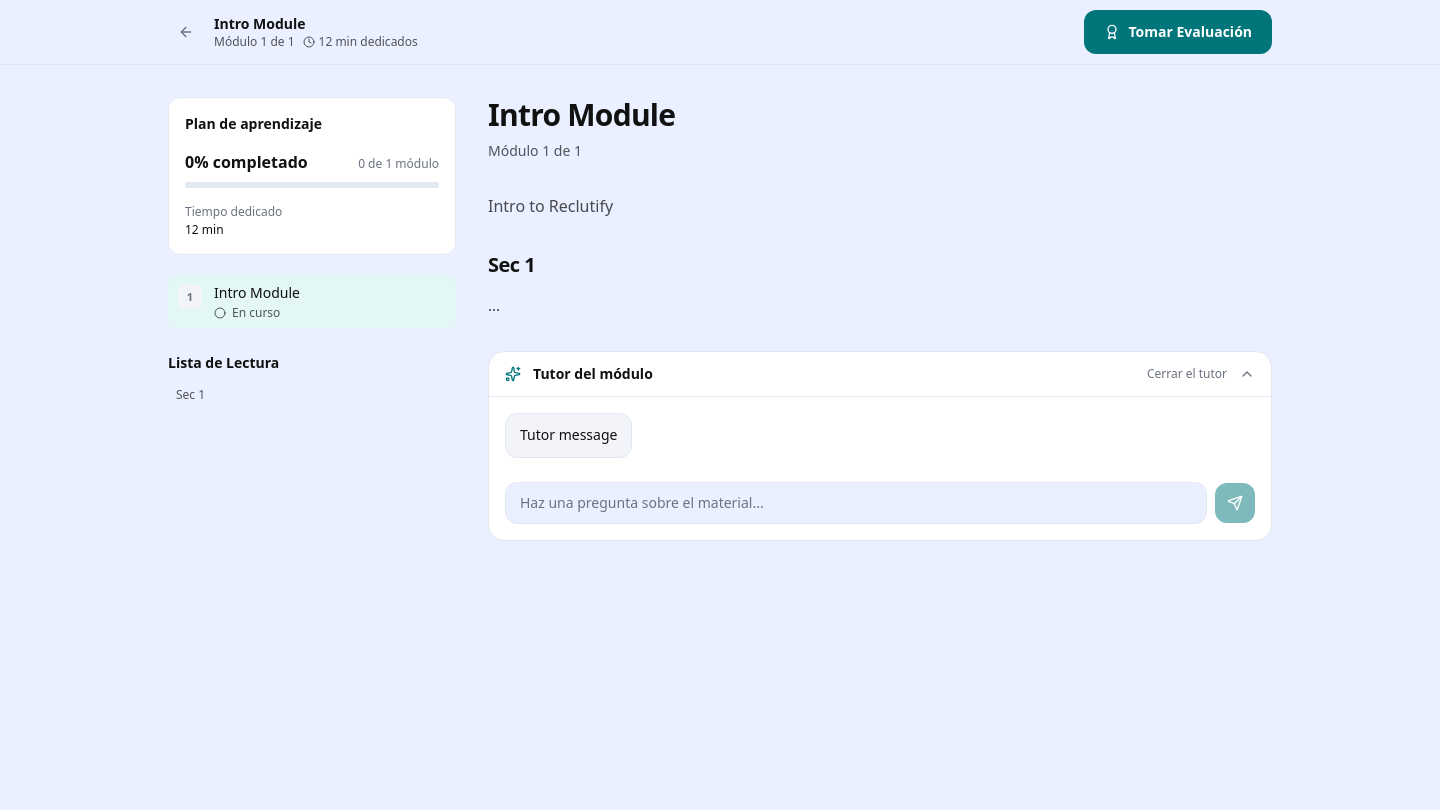
Scenario: TrainingModulePage Component Integrity › shows the per-question explanation in the review, and nothing when there is none
Click the button "Tomar Evaluación". click: (1178, 32)
box: [1084,10,1272,54]
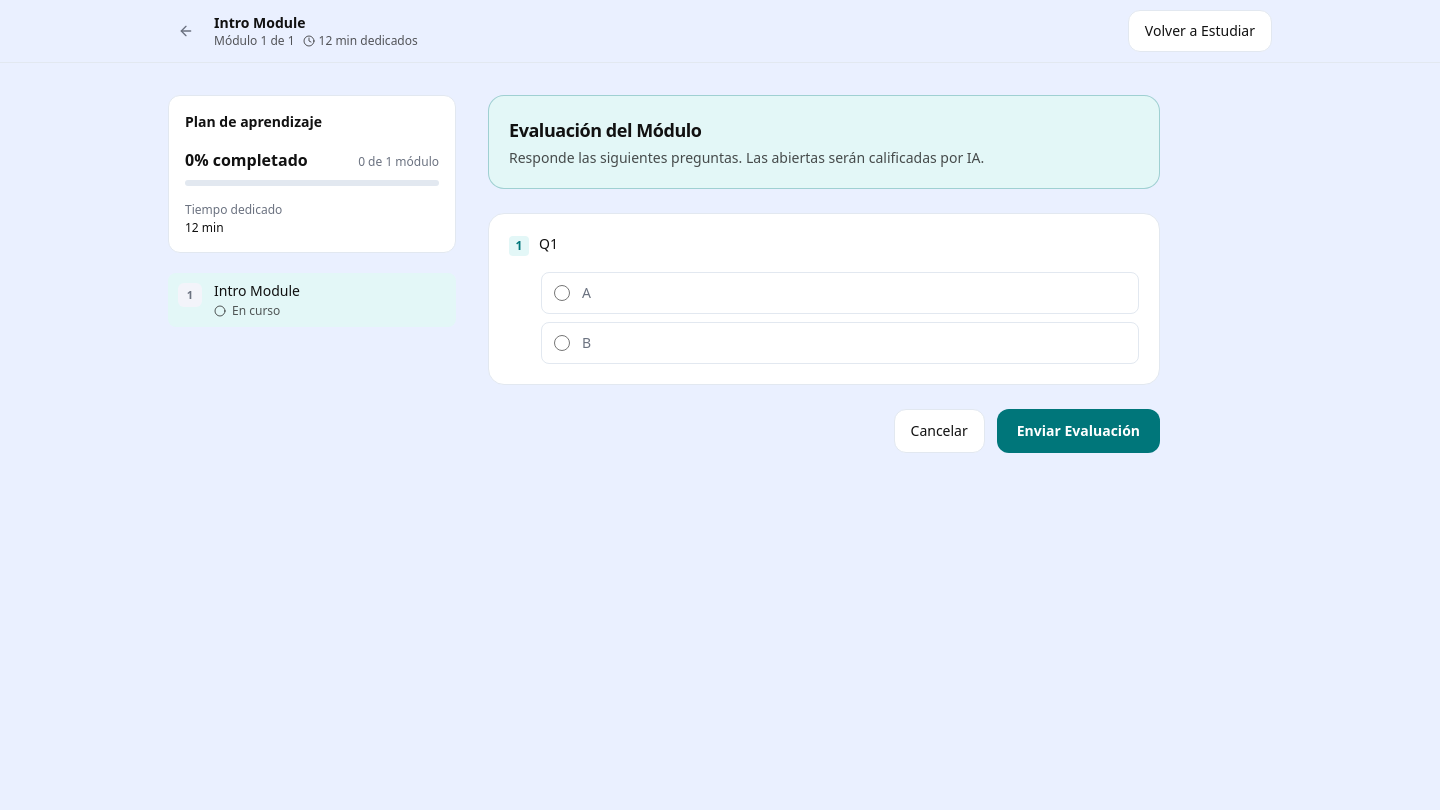
Click the radio button labelled "A". click: (562, 293)
box: [554,285,570,301]
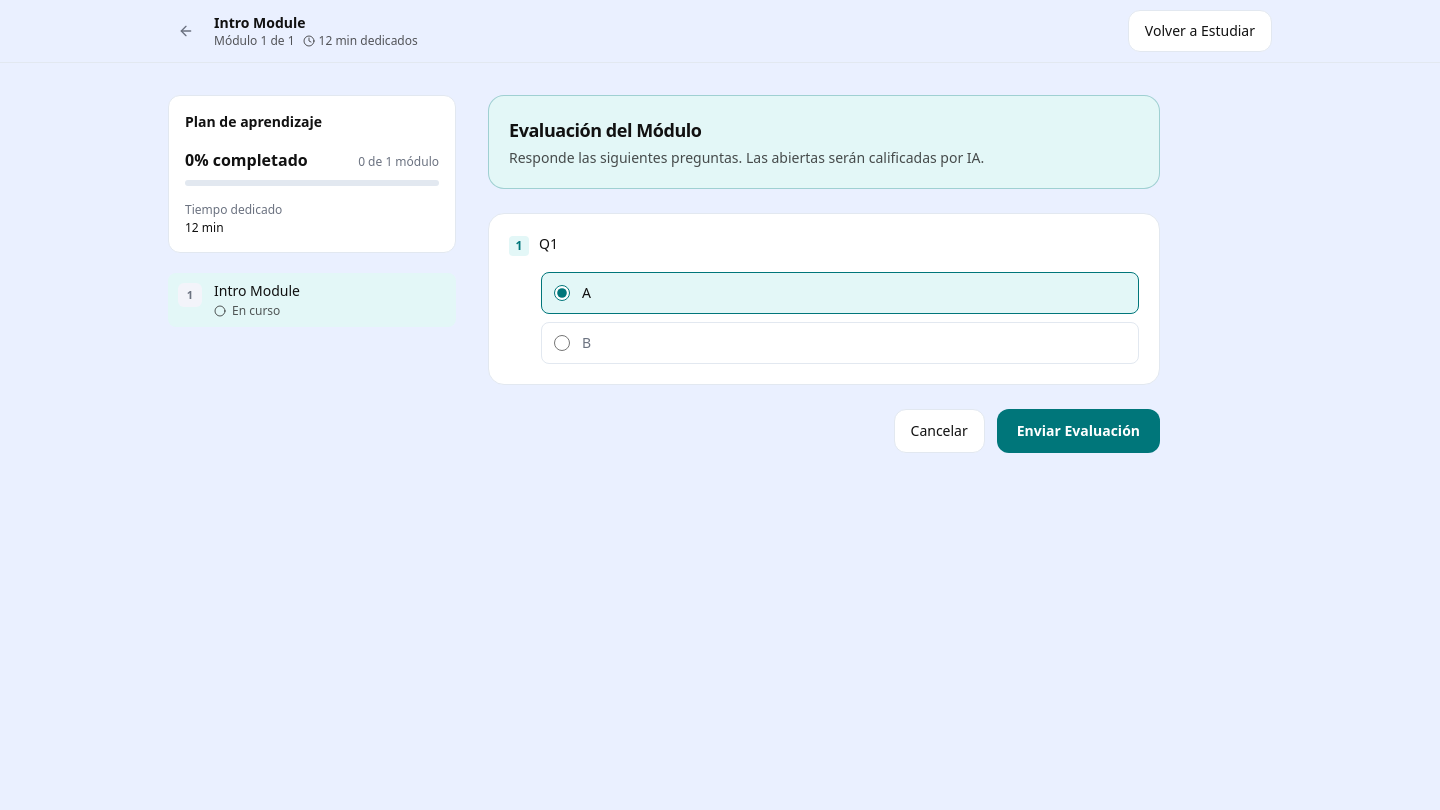
Click the button "Enviar Evaluación". click: (1078, 431)
box: [997,409,1160,453]
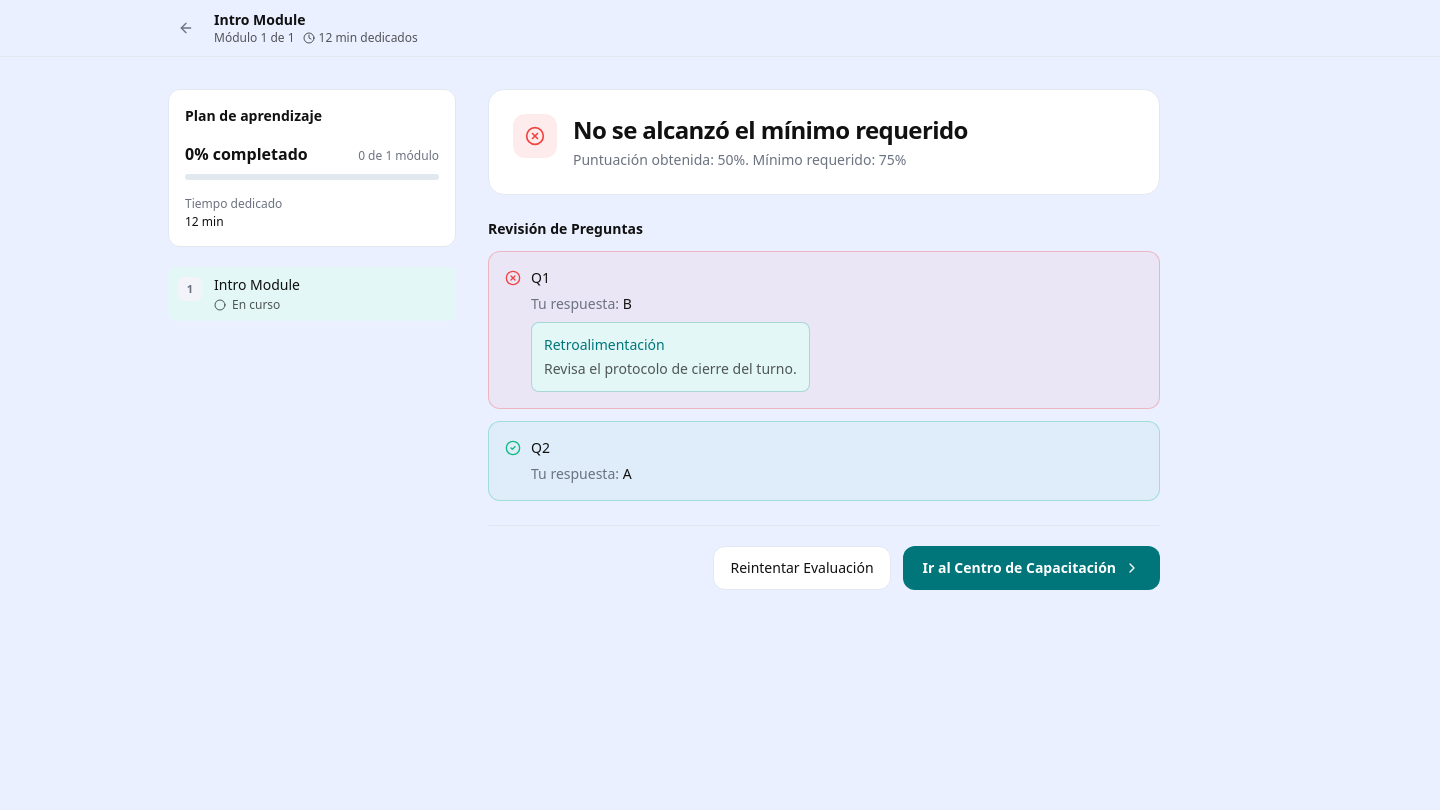
Now the text "Revisa el protocolo de cierre del turno." is shown, box [544,359,797,379]
Now the text "Retroalimentación" is shown once, box [544,335,665,354]
